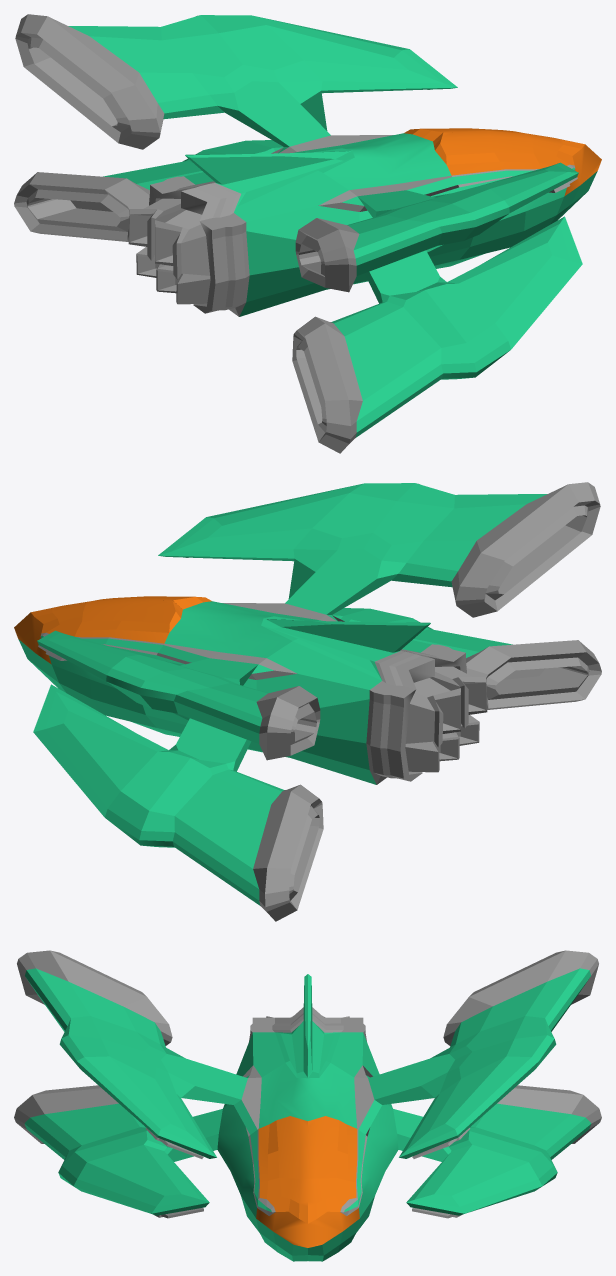
Rendered from 4-Winged_v1.FBX.
3 views of the same model, one above another, from view 1: azimuth 30°, elevation 25°; view 2: azimuth 150°, elevation 25°; view 3: azimuth 270°, elevation 25° (orthographic). The views are drawn at different scales.
Visible parts, largest first — view 1: Box002; view 2: Box002; view 3: Box002.
Boxes of the visible parts, x1,y1,x2,y2 form: Box002: (14, 14, 601, 453); Box002: (14, 482, 601, 921); Box002: (14, 950, 601, 1261).
Bounding box in the file's own units: 187 × 87.27 × 238.
